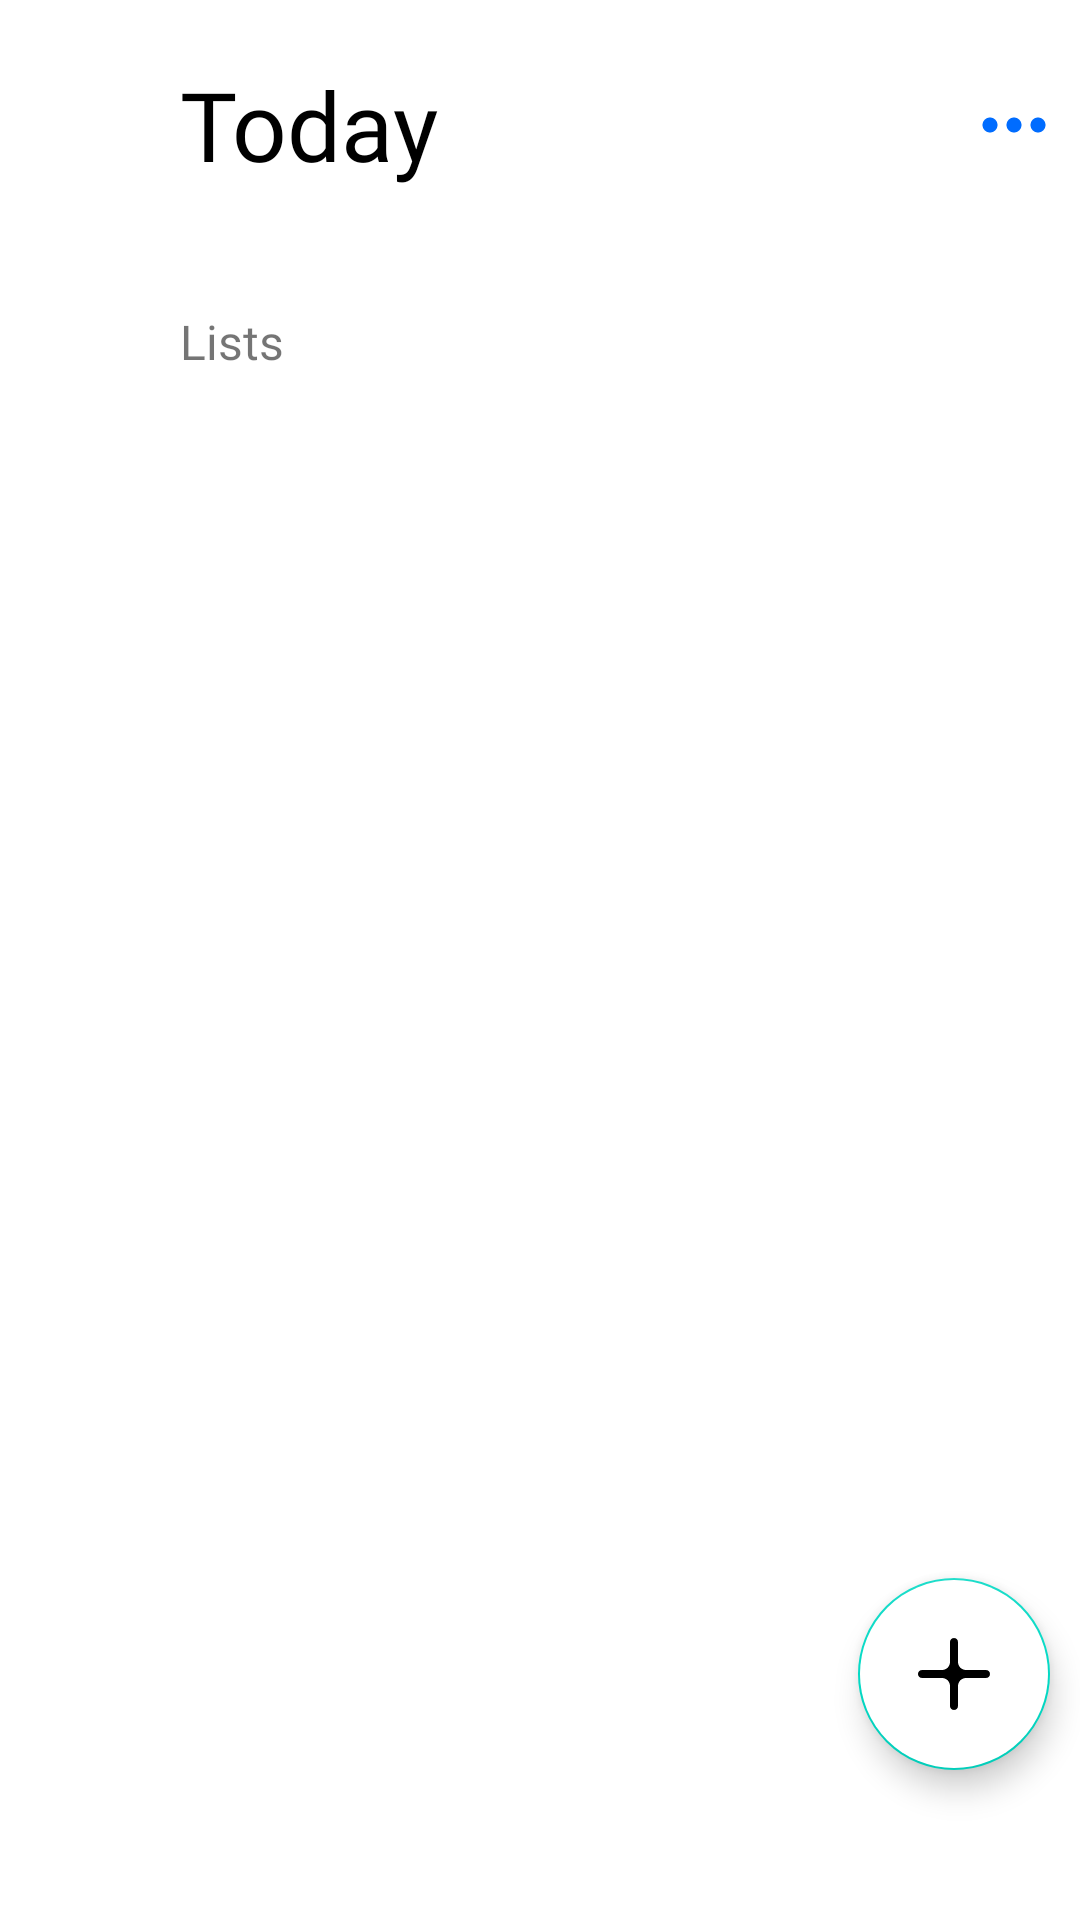

Where icons sit on this 1080px×1920px app screen, as (x1, y1, x2, y2):
add: (858, 1578, 1050, 1770)
